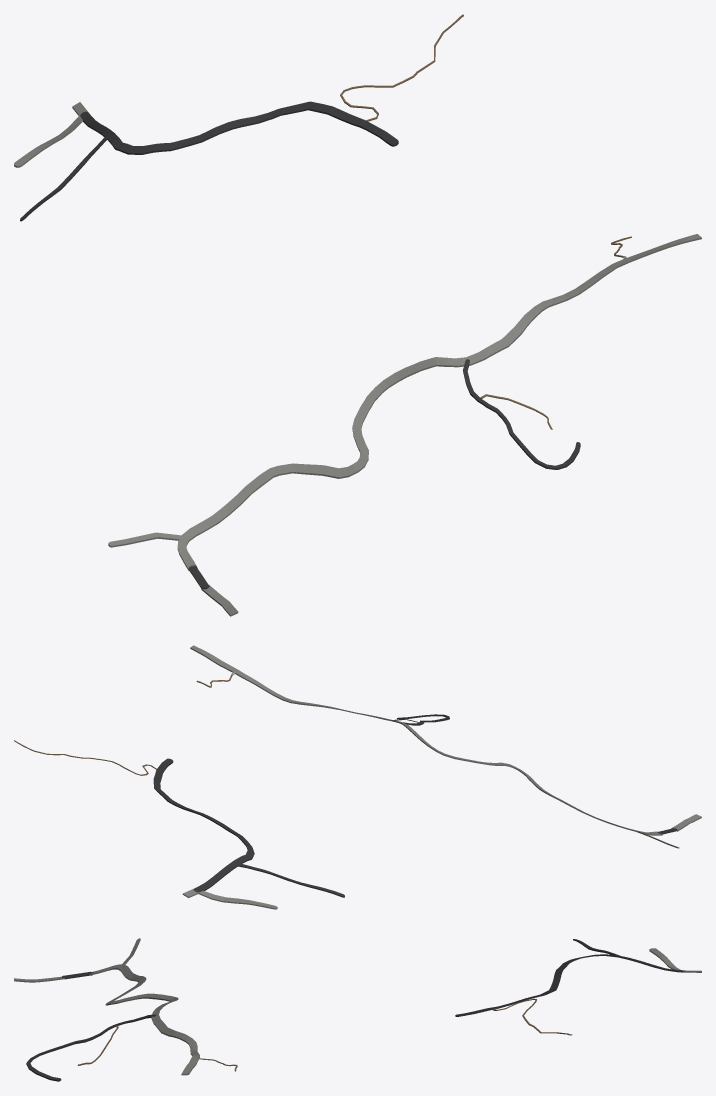
3 views of the same model, one above another, from view 1: azimuth 30°, elevation 25°; view 2: azimuth 150°, elevation 25°; view 3: azimuth 270°, elevation 25° (orthographic). The views are drawn at different scales.
Bounding box in the file's own units: 496 × 163 × 583.
